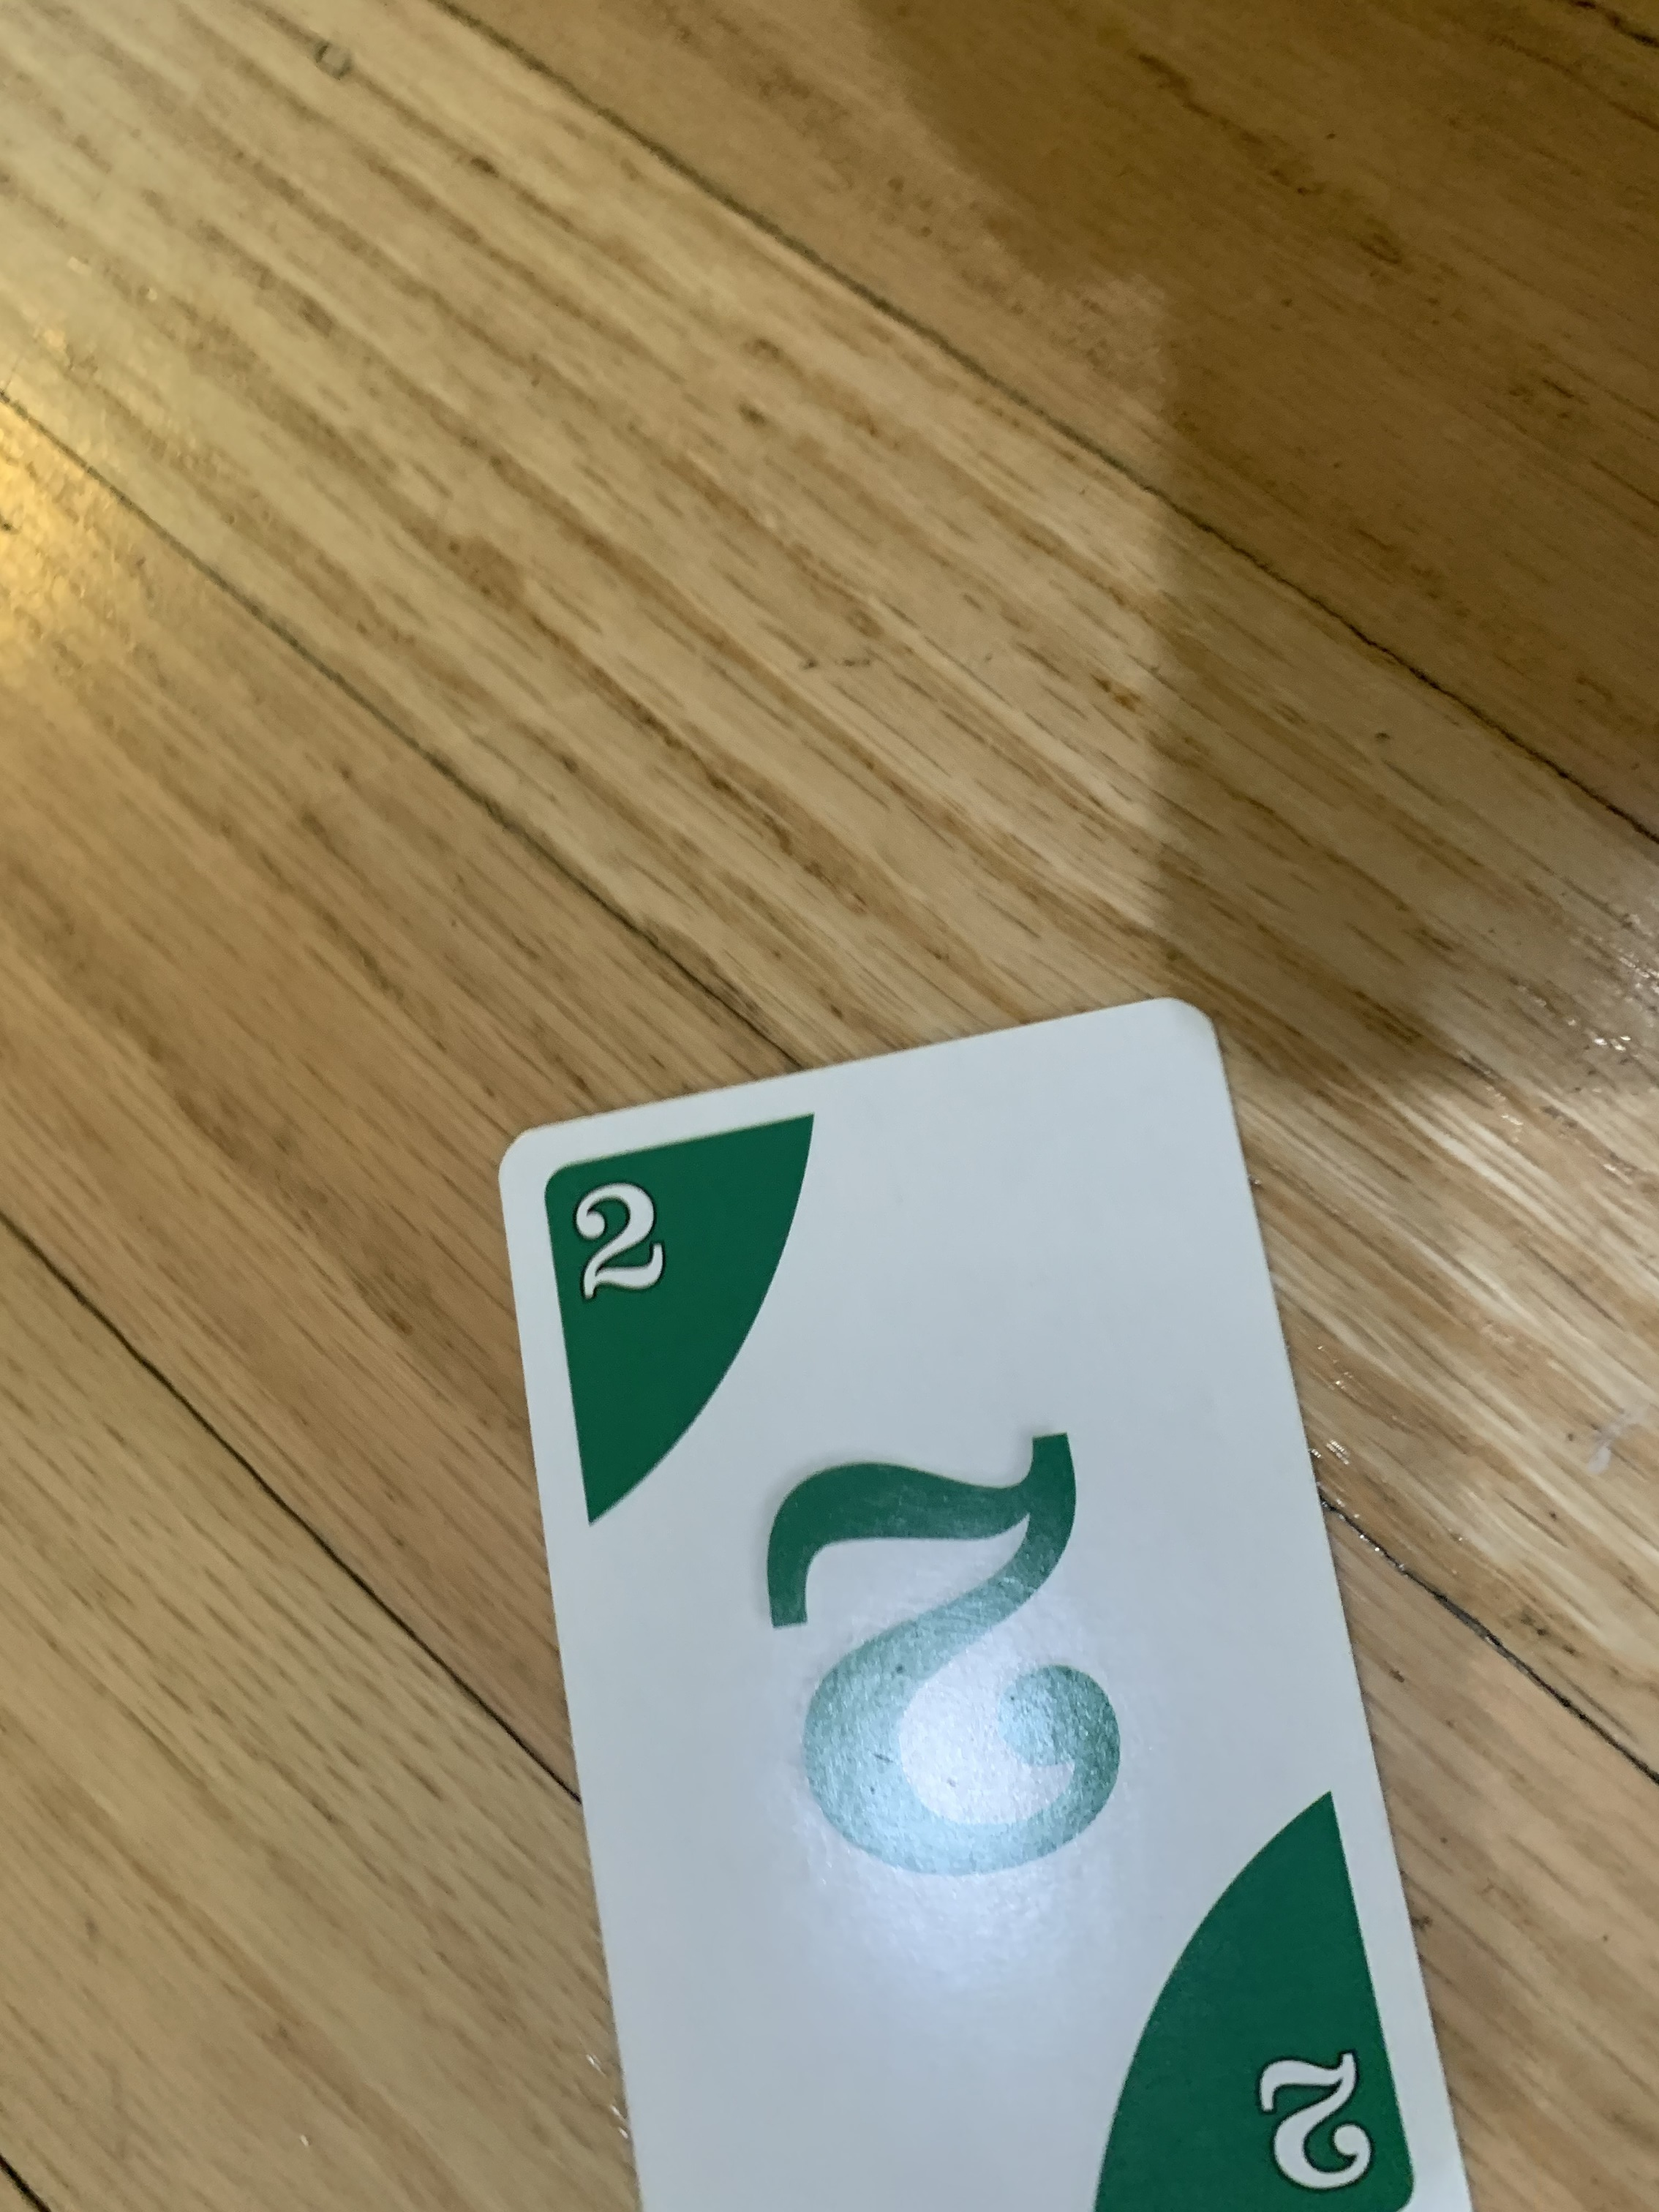two: (502, 975, 1497, 2212)
